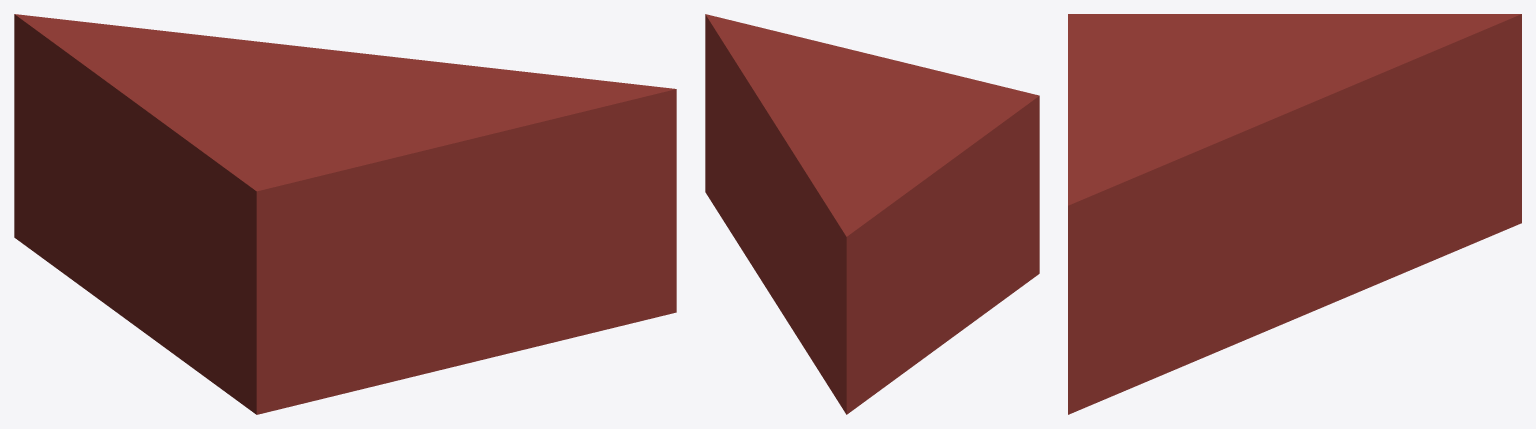
File: BigTriR.fbx
3 views of the same model, side by side, from view 1: azimuth 30°, elevation 25°; view 2: azimuth 150°, elevation 25°; view 3: azimuth 270°, elevation 25° (orthographic). The views are drawn at different scales.
Parts seen in each view (by area): view 1: BigTriR; view 2: BigTriR; view 3: BigTriR.
Part boxes in pixels (left/top/right/bottom): BigTriR: left=14, top=14, right=676, bottom=414; BigTriR: left=705, top=14, right=1039, bottom=414; BigTriR: left=1068, top=14, right=1521, bottom=414.
Bounding box in the file's own units: 1180 × 600 × 1180.
